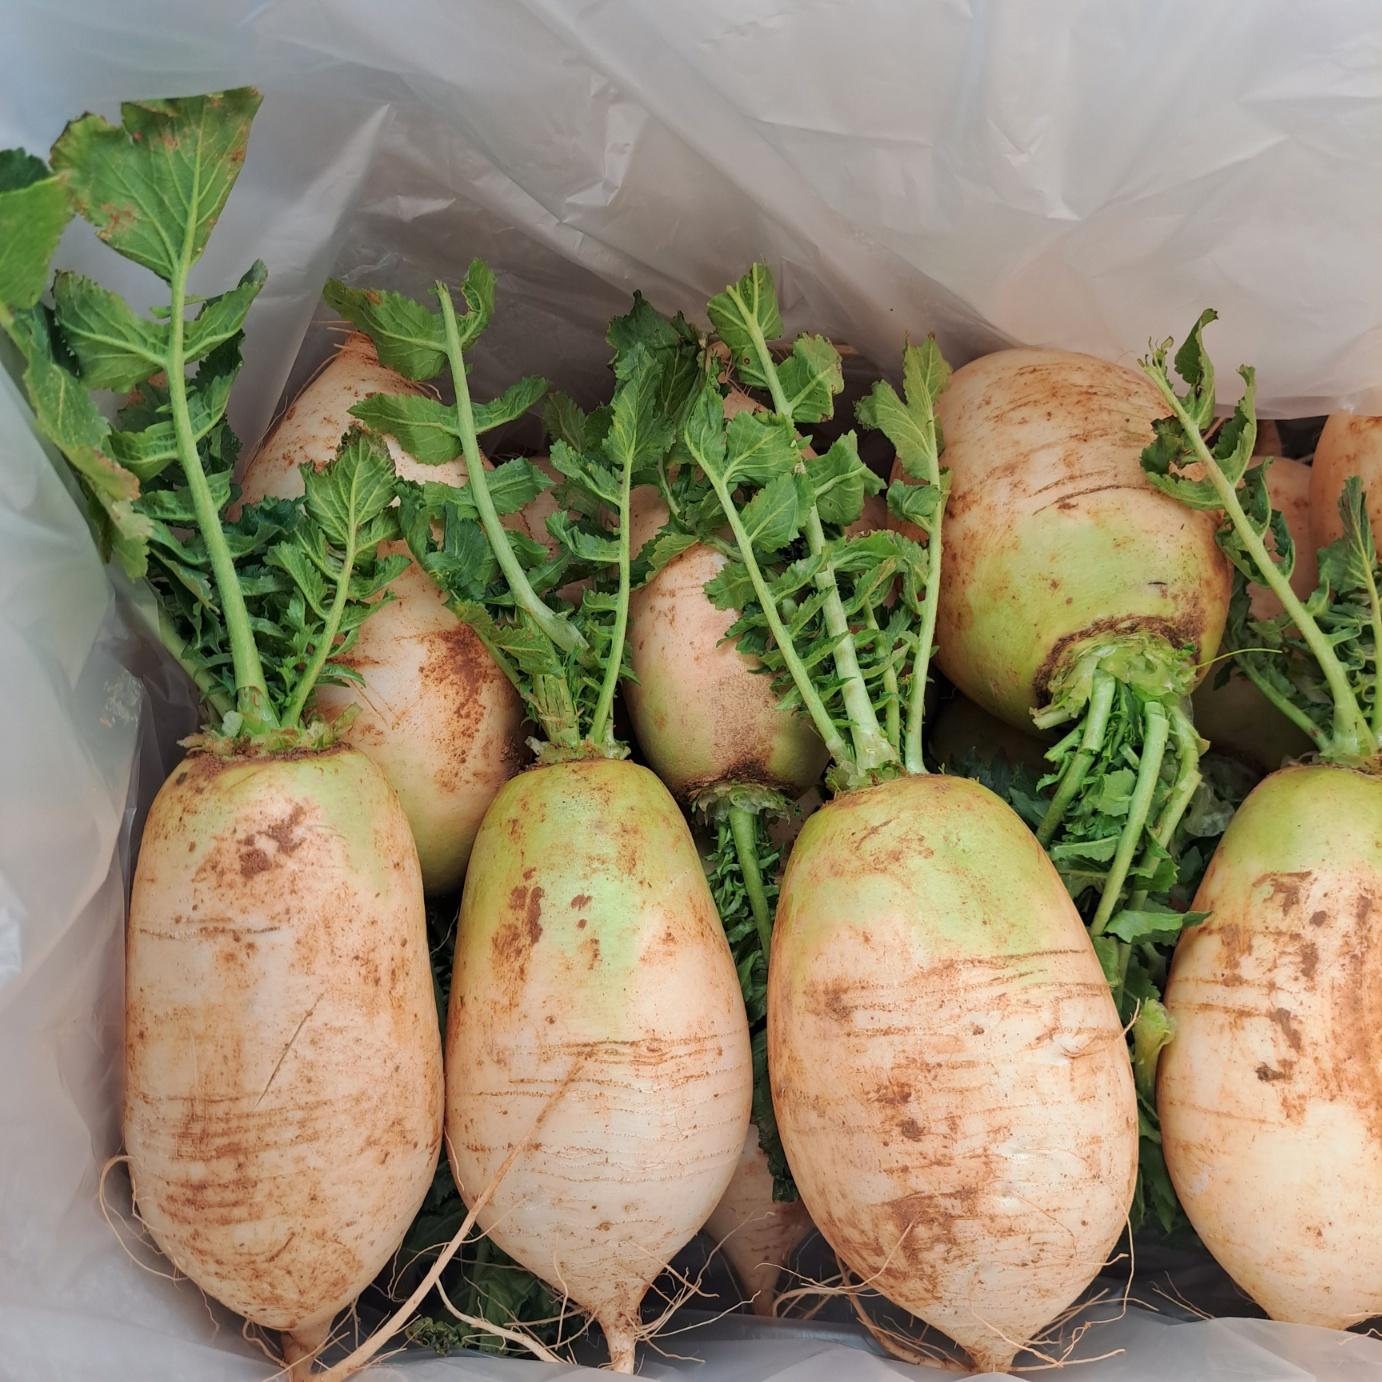radish: (334, 831, 918, 1382), (1062, 767, 1382, 1382), (1076, 790, 1382, 1382), (1134, 749, 1382, 1382)
